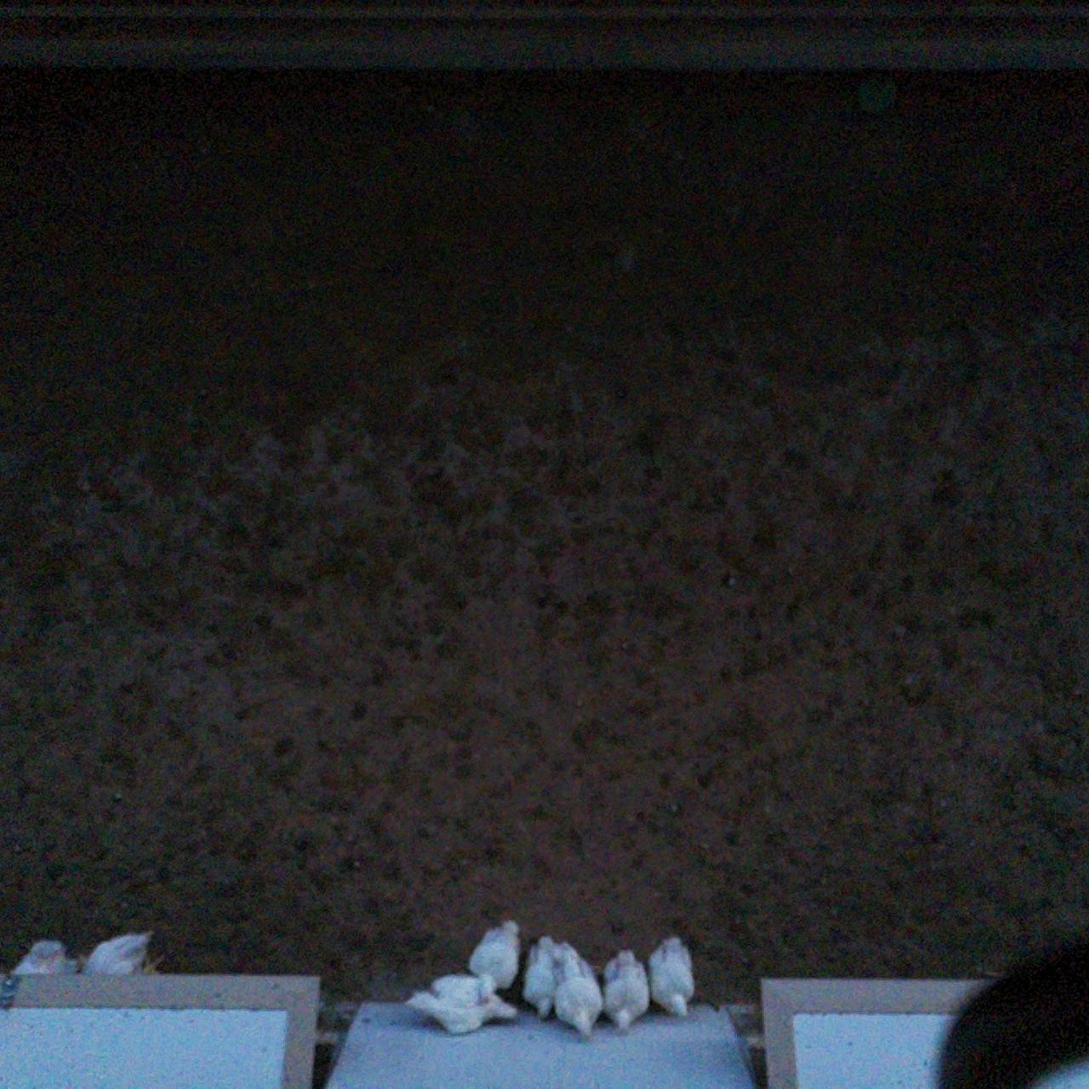chicken: (412, 972, 520, 1038), (591, 942, 658, 1033), (546, 939, 603, 1042), (78, 927, 169, 980), (647, 933, 699, 1021), (468, 917, 529, 989), (518, 933, 564, 1027), (7, 935, 84, 984)
